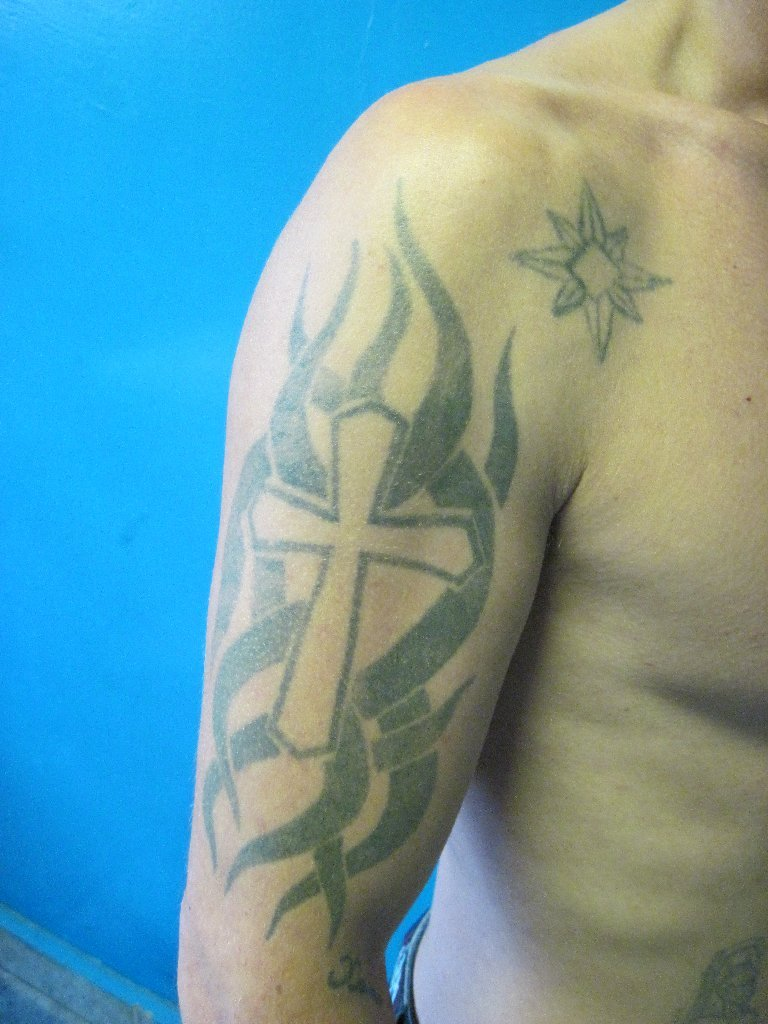tatu4_zvezda: (507, 164, 684, 367)
tatu9_krest: (224, 388, 506, 780)
